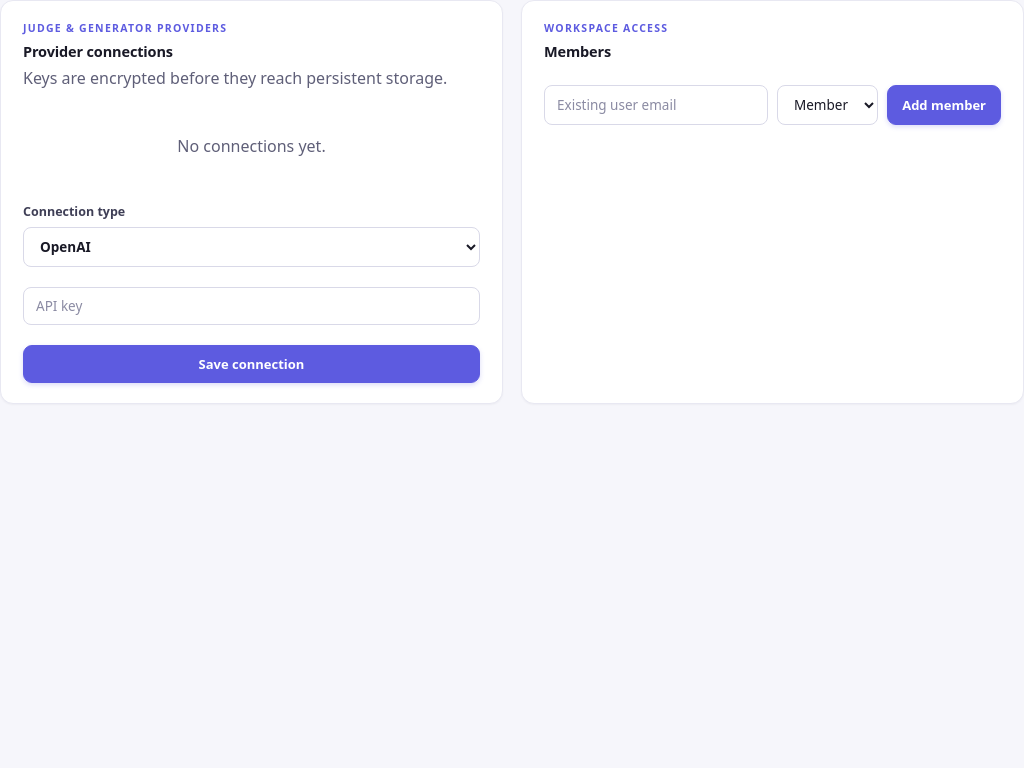
SettingsPanel connections › reveals custom fields when the custom type is chosen
Expected: the password field with placeholder "API key" is shown, [23,287,480,325]
Select "OpenAI-compatible" in the dropdown labelled "Connection type" at [252, 247], box [23,227,480,267]
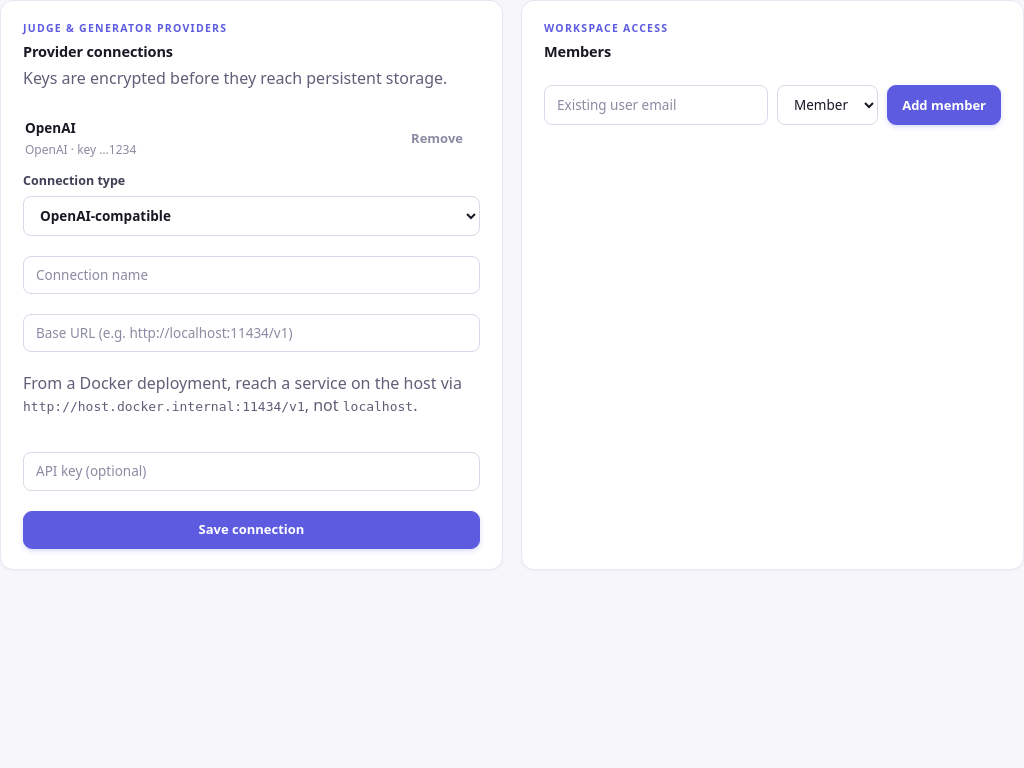
Expected: the field with placeholder "Base URL (e.g. http://localhost:11434/v1)" is shown, [23,314,480,352]
Expected: the field with placeholder "Connection name" is shown, [23,256,480,294]
Expected: the text "http://host.docker.internal:11434/v1" is shown, [23,399,305,414]
